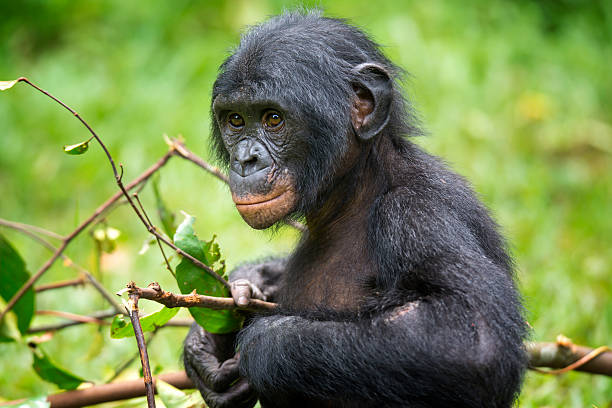chimpanzee: (183, 7, 415, 259)
